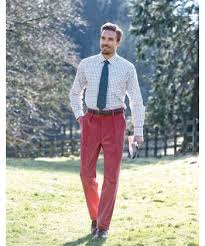F_belt: (81, 104, 130, 120)
F_tie: (93, 61, 116, 112)
